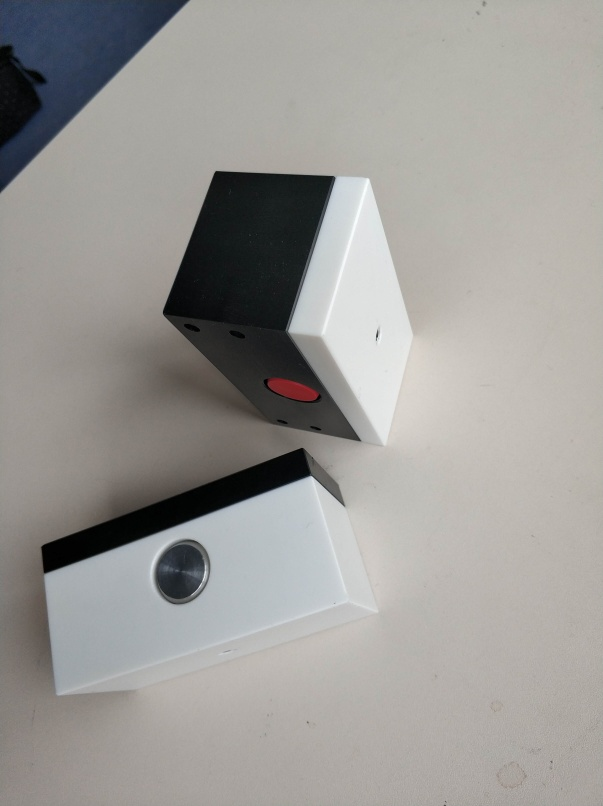black+white+silver: (38, 446, 380, 701)
white+black+red: (161, 167, 420, 450)
